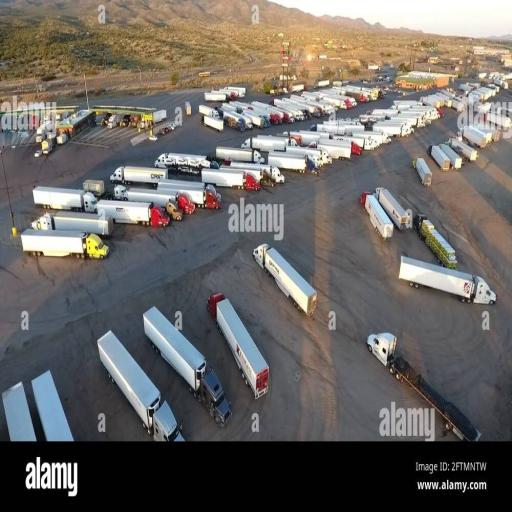truck: (360, 322, 494, 444), (133, 303, 233, 420), (92, 324, 173, 440), (200, 290, 276, 396), (397, 256, 499, 311), (252, 243, 317, 317), (16, 223, 109, 269), (415, 209, 459, 270), (96, 196, 172, 230), (355, 187, 394, 244), (157, 178, 228, 208), (32, 182, 100, 213), (372, 182, 414, 232), (200, 168, 272, 195), (108, 156, 170, 187), (157, 147, 214, 175), (216, 139, 270, 163), (270, 149, 318, 175), (242, 132, 289, 154), (312, 140, 356, 163), (408, 154, 434, 192), (290, 125, 328, 143)
